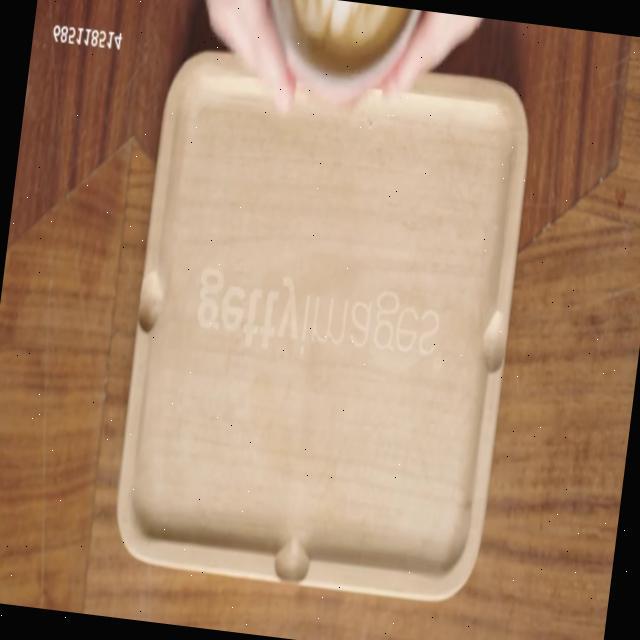cup: (251, 0, 420, 112)
tray: (108, 40, 538, 604)
